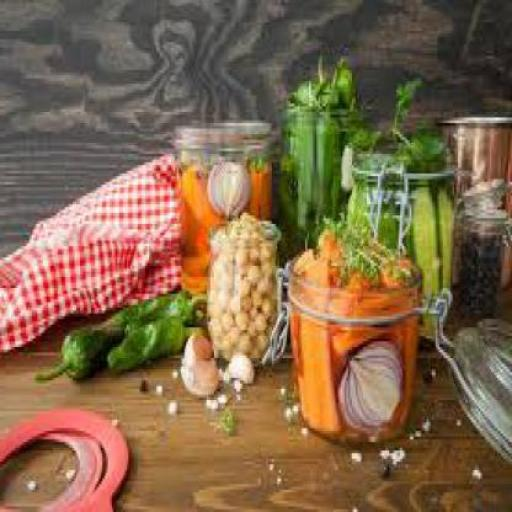biodegradable: (34, 285, 199, 381), (303, 254, 343, 436), (339, 333, 406, 434), (214, 244, 276, 350), (335, 207, 406, 277), (112, 316, 208, 367), (287, 112, 316, 255), (292, 53, 362, 112), (412, 184, 438, 322), (334, 302, 402, 350), (463, 232, 503, 313), (317, 115, 344, 223), (397, 263, 415, 420), (209, 156, 253, 216), (184, 327, 222, 394), (340, 120, 372, 199), (334, 285, 402, 322), (348, 174, 380, 246), (318, 221, 356, 277), (440, 184, 454, 322), (183, 162, 212, 221), (394, 78, 420, 135), (378, 188, 400, 249), (222, 346, 257, 381), (401, 130, 445, 156), (346, 123, 397, 145), (222, 214, 272, 230), (186, 246, 210, 268), (298, 246, 315, 277), (184, 268, 210, 283), (202, 392, 220, 408), (202, 227, 212, 254), (65, 464, 78, 479), (159, 378, 171, 389), (169, 398, 177, 408), (173, 361, 180, 369), (238, 378, 244, 383)
glass: (289, 252, 424, 434), (344, 132, 456, 338), (178, 114, 280, 296), (281, 100, 376, 260), (207, 215, 283, 367), (448, 316, 511, 464), (462, 204, 510, 320), (462, 176, 510, 210)
